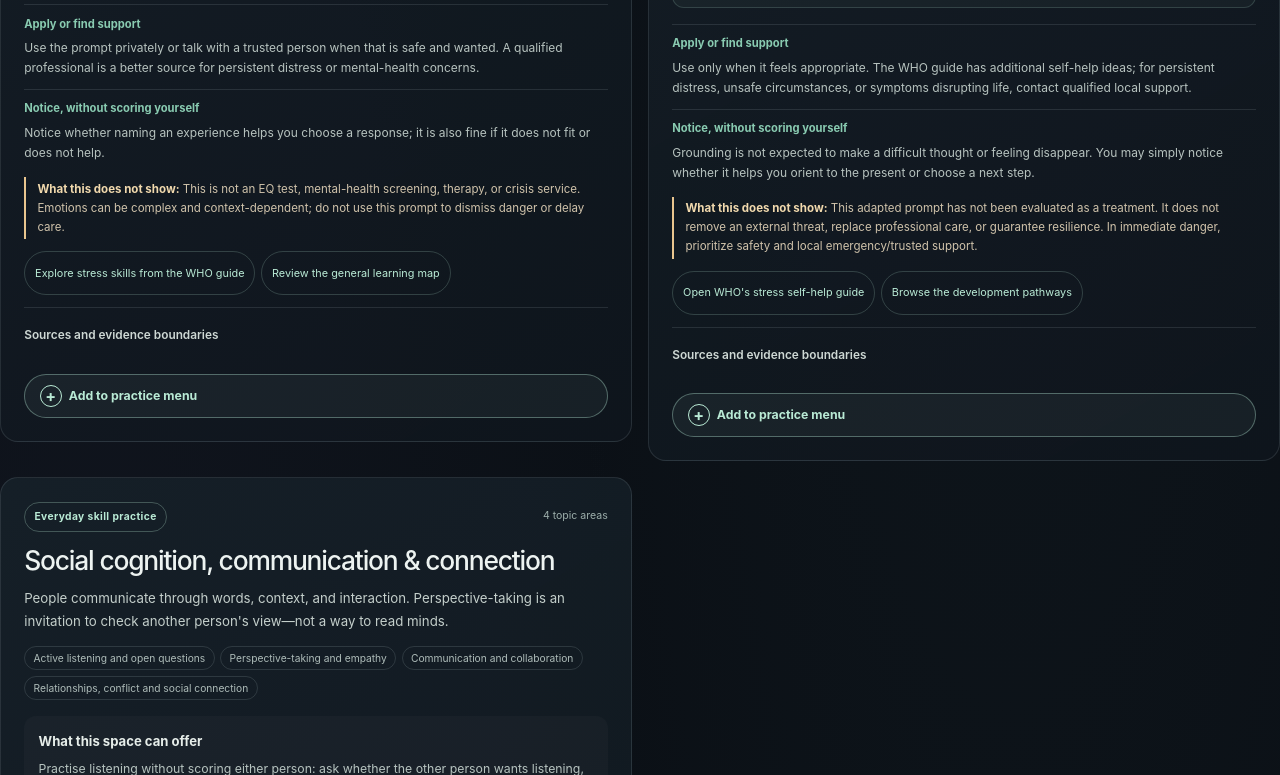
Test: DevelopmentAtlas › copies the selected public plan only after a user action
(page scrolled)
Click the button with aria-label "add stress, resilience & coping to the practice menu" at (781, 415), box [672,393,1256,437]
(page scrolled)
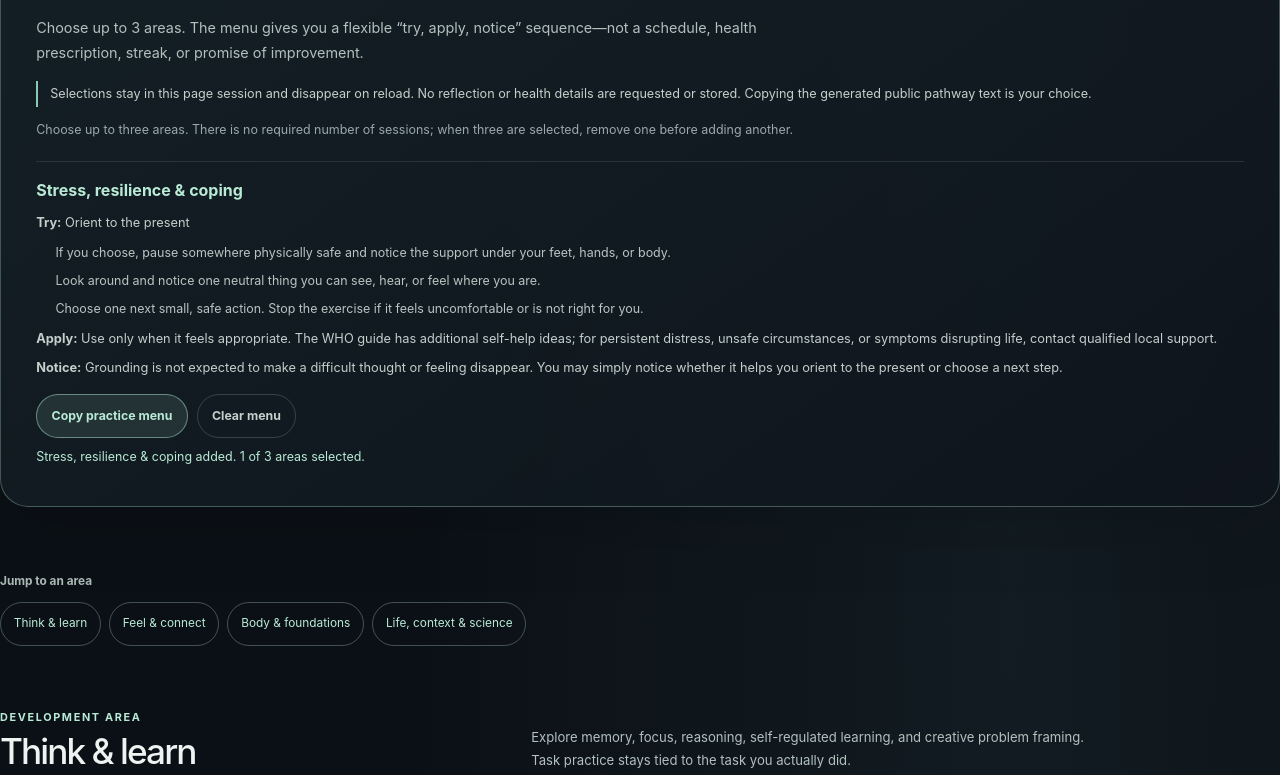
Click the button "Copy practice menu" at (112, 416), box [36,394,188,438]
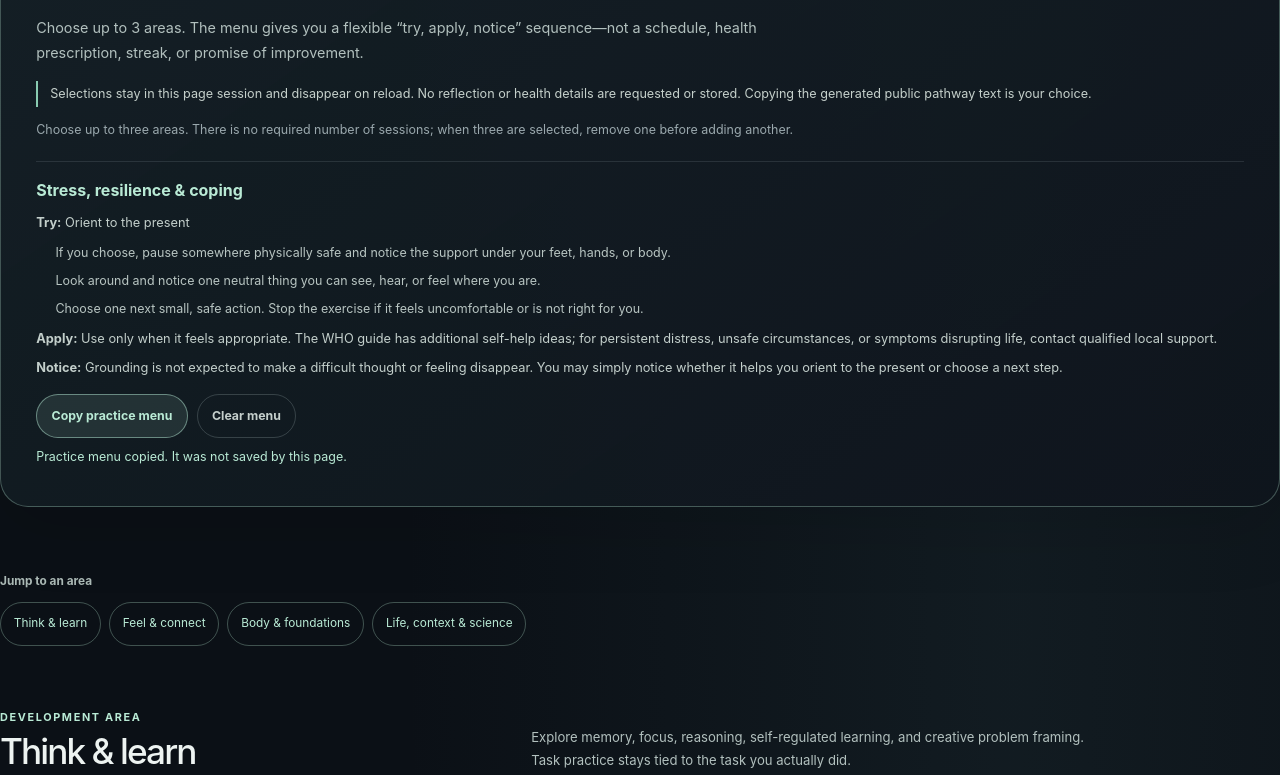
Check: the message shows "Practice menu copied", box [36,449,347,464]
